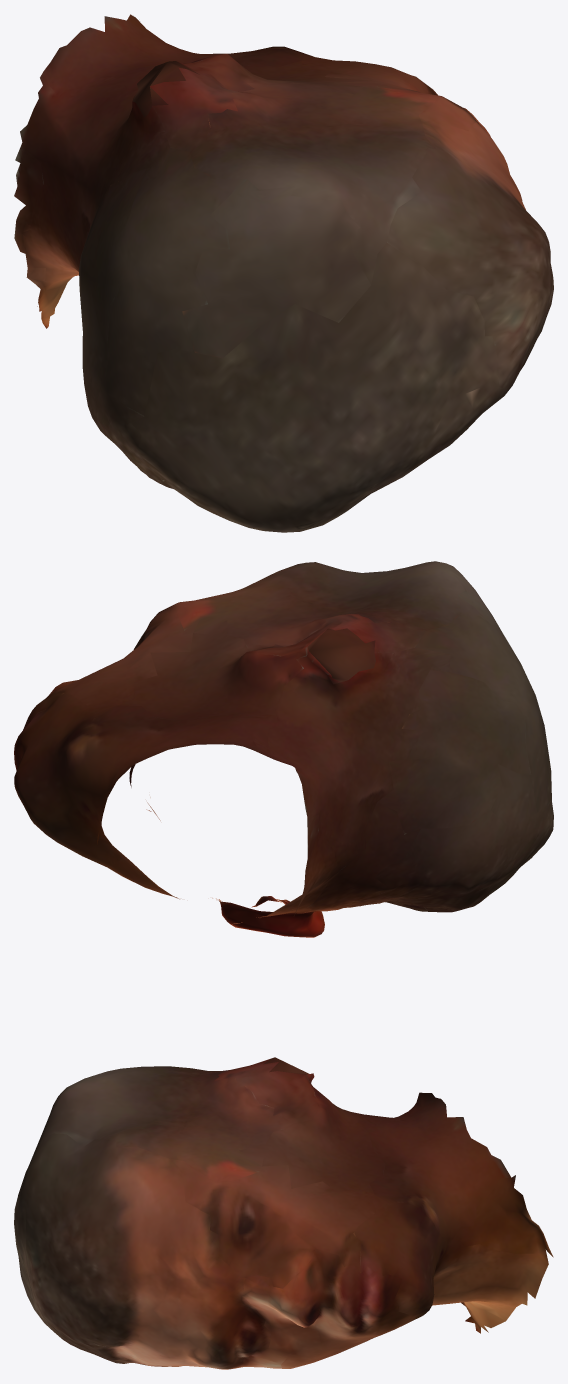
File: ohmyjosh.glb
3 renders of one model, top to bottom at view 1: azimuth 30°, elevation 25°; view 2: azimuth 150°, elevation 25°; view 3: azimuth 270°, elevation 25°, orthographic. The views are drawn at different scales.
Visible parts, largest first — view 1: head; view 2: head; view 3: head.
Part boxes in pixels (<box>): head: <box>14,14,553,532</box>; head: <box>14,561,553,937</box>; head: <box>14,1057,553,1369</box>.
Size of the model in its own units: 0.3612 by 0.2673 by 0.4691.
2 materials, 1 textured.
